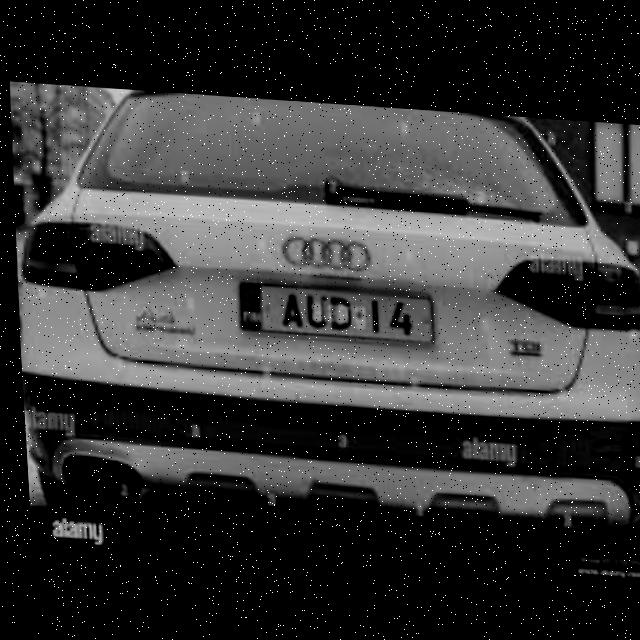license-plates: (242, 281, 434, 341)
